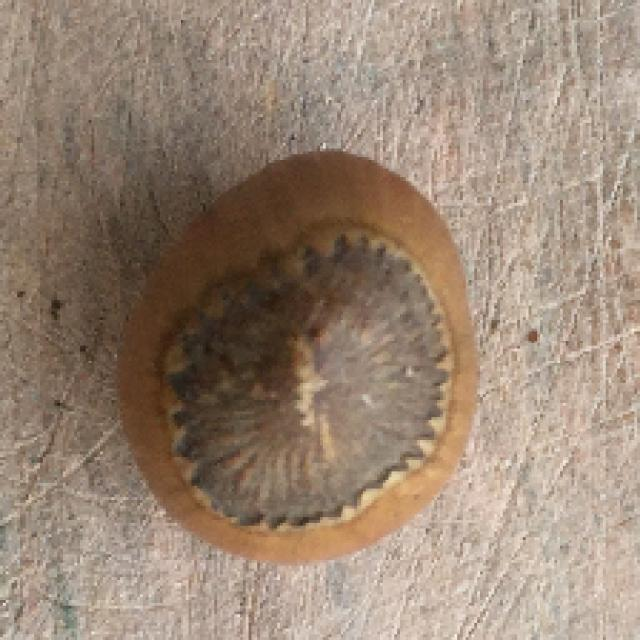damagedHazelnut: (114, 137, 489, 579)
